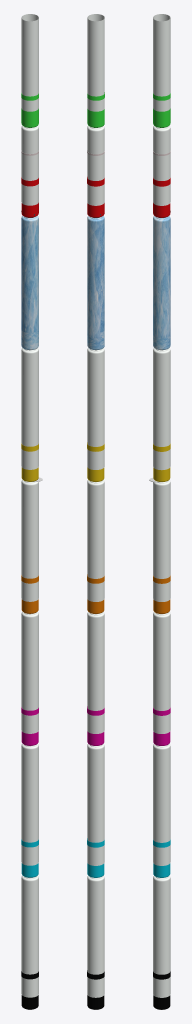
Rendered from Pipe.fbx.
The picture shows the model from 3 angles, left to right: view 1: azimuth 90°, elevation 25°; view 2: azimuth 210°, elevation 25°; view 3: azimuth 270°, elevation 25°; orthographic projection.
Parts seen in each view (by area): view 1: Cylinder.019, Cylinder.027, Cylinder.023, Cylinder.011, Cylinder.015, Cylinder.008, Cylinder, Cylinder.003, Cylinder.010, Cylinder.006, Cylinder.024, Cylinder.028 (+3 smaller); view 2: Cylinder.008, Cylinder.019, Cylinder.011, Cylinder.027, Cylinder.015, Cylinder.023, Cylinder, Cylinder.003, Cylinder.010, Cylinder.024, Cylinder.028, Cylinder.006 (+3 smaller); view 3: Cylinder.008, Cylinder.027, Cylinder.023, Cylinder.019, Cylinder.011, Cylinder.015, Cylinder, Cylinder.003, Cylinder.006, Cylinder.028, Cylinder.010, Cylinder.024 (+3 smaller).
Part boxes in pixels (box(x1,y1,x2,y2)): Cylinder.019: box(21, 611, 38, 733); Cylinder.027: box(21, 875, 38, 997); Cylinder.023: box(21, 743, 38, 865); Cylinder.011: box(21, 348, 38, 469); Cylinder.015: box(21, 479, 38, 601); Cylinder.008: box(21, 215, 38, 332); Cylinder: box(21, 14, 38, 127); Cylinder.003: box(21, 125, 38, 205); Cylinder.010: box(21, 329, 38, 350); Cylinder.006: box(21, 202, 38, 217); Cylinder.024: box(21, 863, 38, 877); Cylinder.028: box(21, 995, 38, 1009); Cylinder.008: box(87, 216, 104, 338); Cylinder.019: box(87, 612, 104, 733); Cylinder.011: box(87, 348, 104, 469); Cylinder.027: box(87, 875, 104, 997); Cylinder.015: box(87, 480, 104, 601); Cylinder.023: box(87, 744, 104, 865); Cylinder: box(87, 14, 104, 127); Cylinder.003: box(87, 125, 104, 205); Cylinder.010: box(87, 330, 104, 349); Cylinder.024: box(87, 863, 104, 877); Cylinder.028: box(87, 995, 104, 1009); Cylinder.006: box(87, 203, 104, 217); Cylinder.008: box(153, 216, 170, 338); Cylinder.027: box(153, 875, 170, 997); Cylinder.023: box(153, 744, 170, 865); Cylinder.019: box(153, 612, 170, 733); Cylinder.011: box(153, 348, 170, 470); Cylinder.015: box(153, 480, 170, 601); Cylinder: box(153, 14, 170, 127); Cylinder.003: box(153, 125, 170, 205); Cylinder.006: box(153, 203, 170, 217); Cylinder.028: box(153, 995, 170, 1009); Cylinder.010: box(153, 335, 170, 349); Cylinder.024: box(153, 863, 170, 877).
Bounding box in the file's own units: 208 × 12547 × 246.
